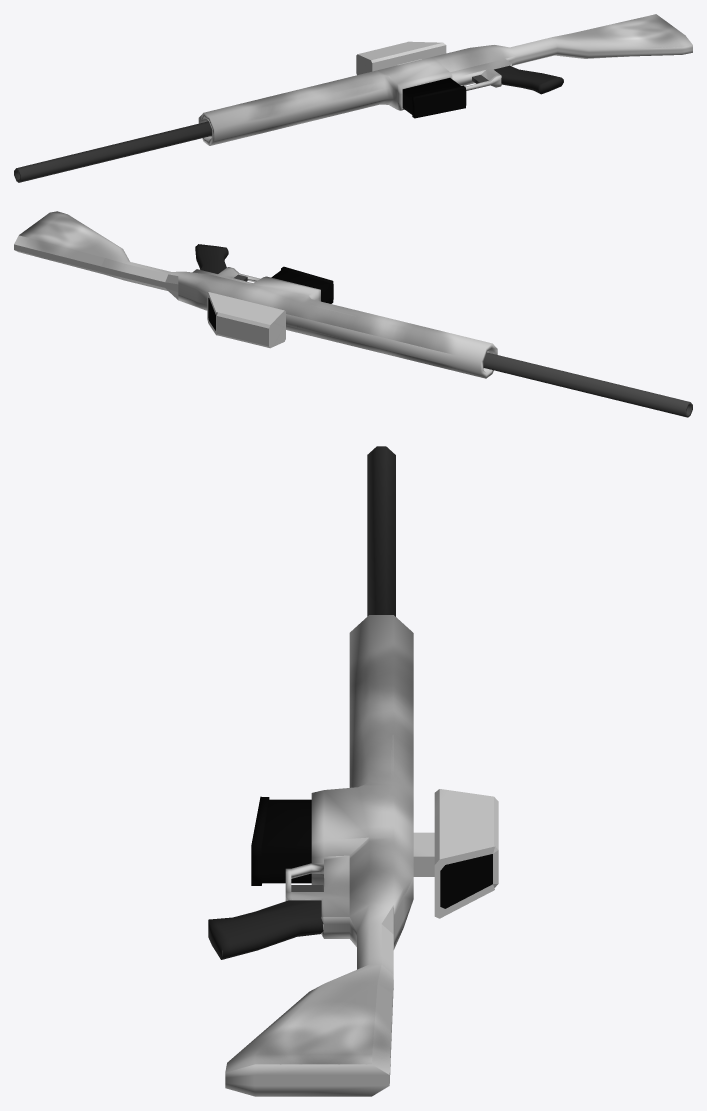
File: Francotirador.fbx
The picture shows the model from 3 angles, top to bottom: view 1: azimuth 30°, elevation 25°; view 2: azimuth 150°, elevation 25°; view 3: azimuth 270°, elevation 25°; orthographic projection. The views are drawn at different scales.
Parts seen in each view (by area): view 1: Francotirador; view 2: Francotirador; view 3: Francotirador.
Boxes of the visible parts, x1=… form: Francotirador: x1=14, y1=14, x2=692, y2=182; Francotirador: x1=14, y1=211, x2=692, y2=417; Francotirador: x1=208, y1=446, x2=498, y2=1096.
Size of the model in its own units: 4597 by 205 by 909.
